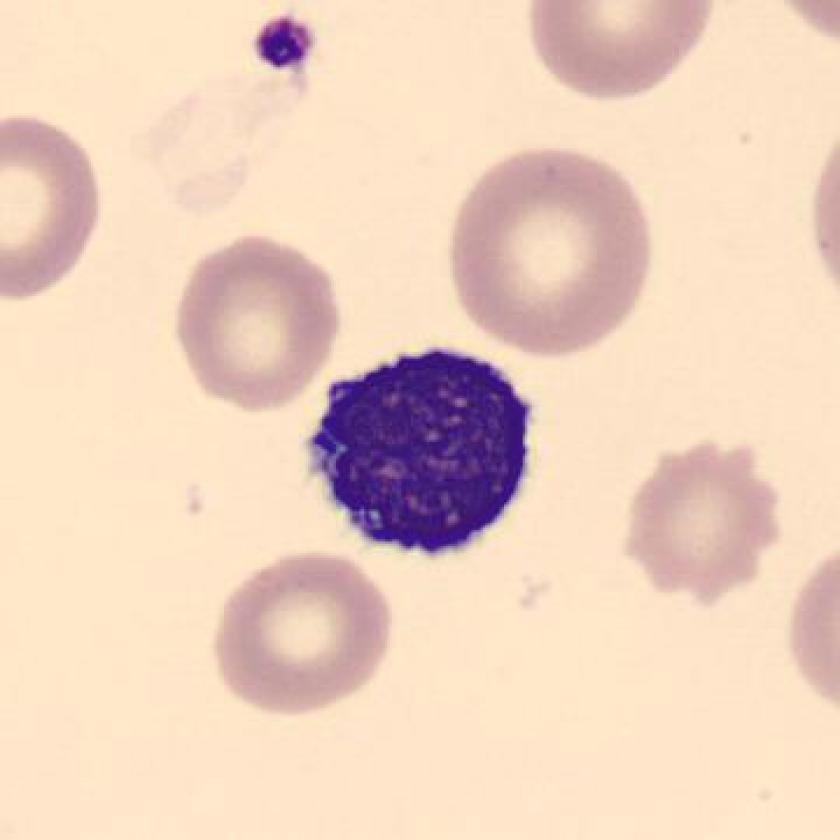lymphocyte: (283, 323, 559, 568)
platelets: (250, 10, 323, 80)
